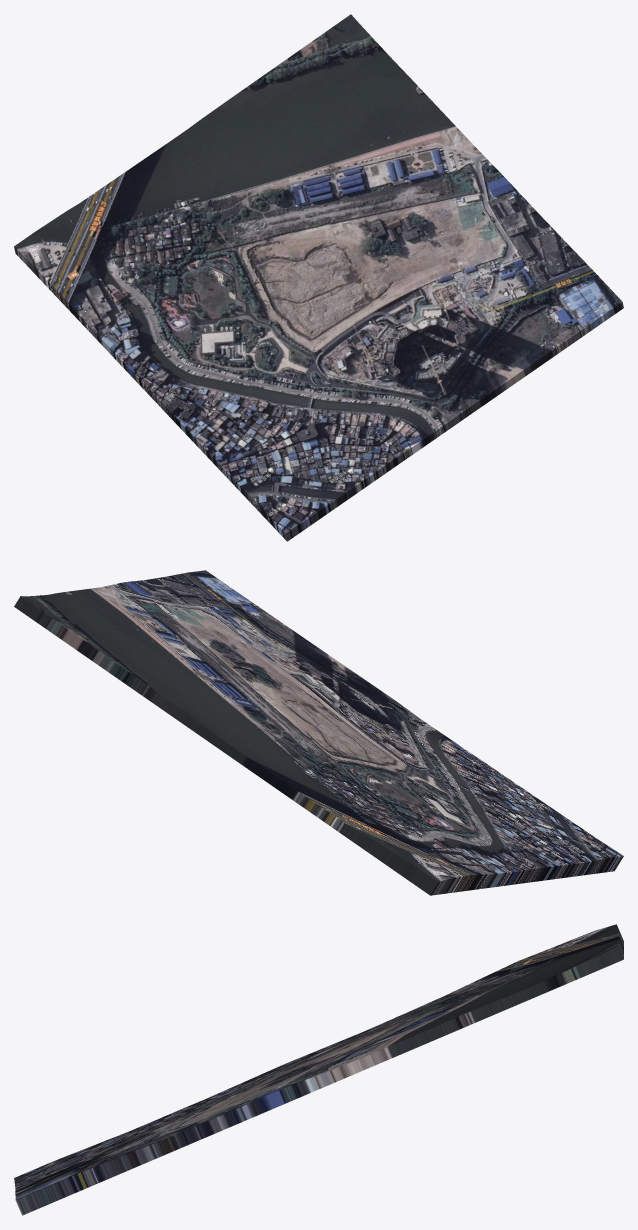
3 renders of one model, top to bottom at view 1: azimuth 30°, elevation 25°; view 2: azimuth 150°, elevation 25°; view 3: azimuth 270°, elevation 25°, orthographic. The views are drawn at different scales.
Visible parts, largest first — view 1: 0_21_13; view 2: 0_21_13; view 3: 0_21_13.
Part boxes in pixels (x1,y1,x2,y2): 0_21_13: [14, 14, 623, 541]; 0_21_13: [14, 570, 623, 895]; 0_21_13: [14, 924, 623, 1215].
Size of the model in its own units: 598 by 439 by 550.
Materials: 1 (1 with a texture image).
